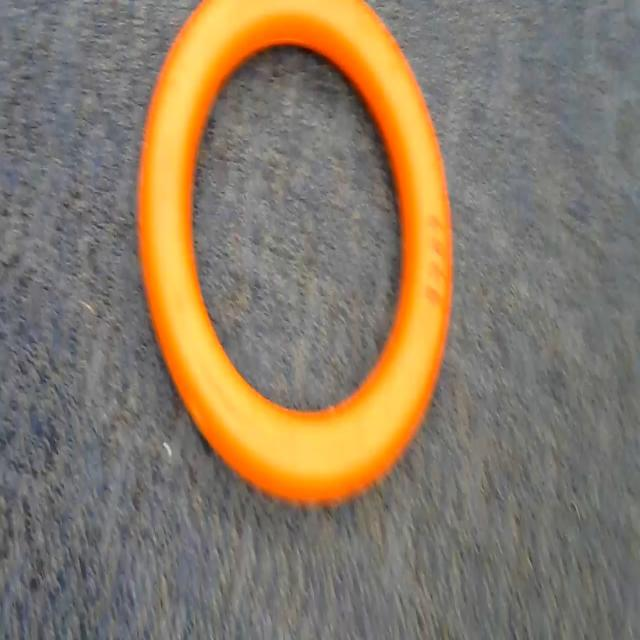note: (124, 0, 481, 528)
